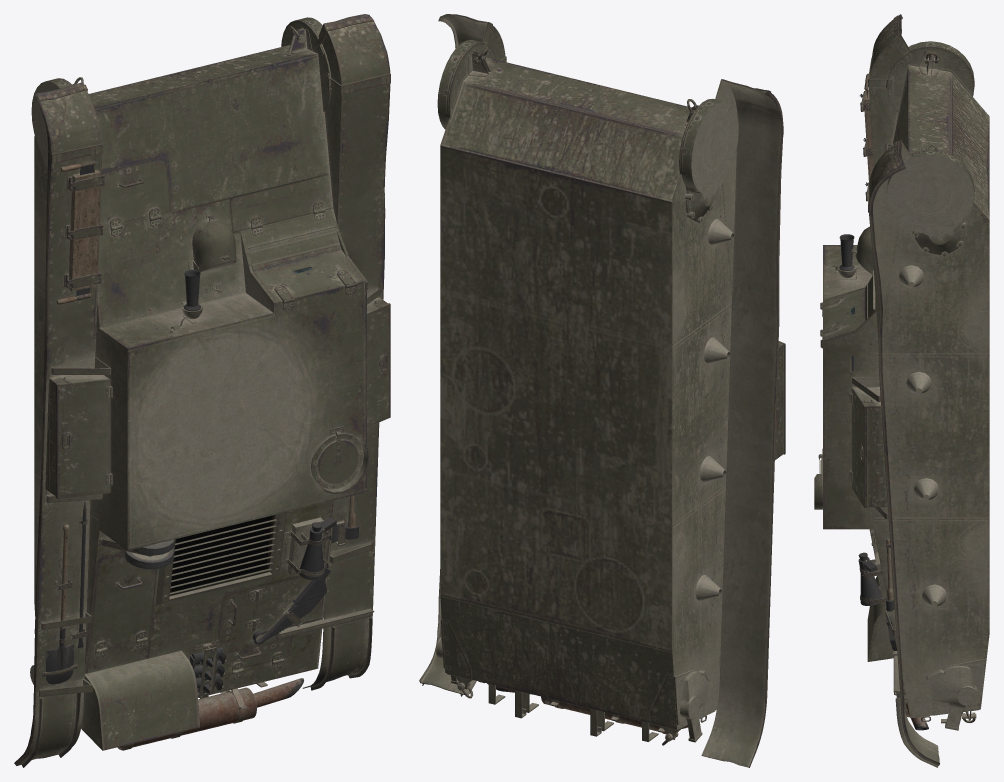
Rendered from Hull.glb.
3 views of the same model, side by side, from view 1: azimuth 30°, elevation 25°; view 2: azimuth 150°, elevation 25°; view 3: azimuth 270°, elevation 25° (orthographic). The views are drawn at different scales.
Visible parts, largest first — view 1: set_0_group_0; view 2: set_0_group_0; view 3: set_0_group_0.
Part boxes in pixels (x1,y1,x2,y2): set_0_group_0: (14, 14, 390, 767); set_0_group_0: (419, 14, 785, 767); set_0_group_0: (814, 14, 989, 767).
Size of the model in its own units: 2.38 by 4.6 by 1.19.
Materials: 1 (1 with a texture image).
